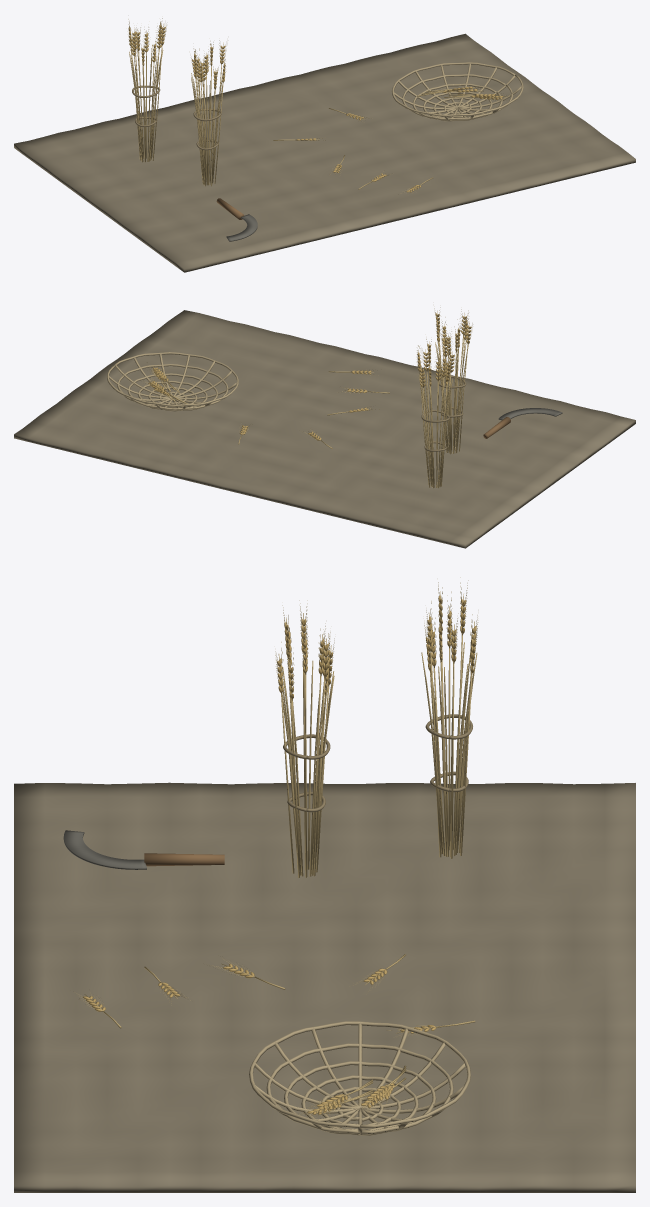
Rendered from ruth-gleaning.glb.
3 views of the same model, one above another, from view 1: azimuth 30°, elevation 25°; view 2: azimuth 150°, elevation 25°; view 3: azimuth 270°, elevation 25° (orthographic). The views are drawn at different scales.
Visible parts, largest first — view 1: ruth-gleaning-ruth-modern-field-display-ground, ruth-gleaning-ruth-selected-mature-cereal-straw, ruth-gleaning-ruth-selected-collection-fibre, ruth-gleaning-ruth-selected-cereal-ear, ruth-gleaning-ruth-undated-fibre-tie; view 2: ruth-gleaning-ruth-modern-field-display-ground, ruth-gleaning-ruth-selected-mature-cereal-straw, ruth-gleaning-ruth-selected-collection-fibre, ruth-gleaning-ruth-selected-cereal-ear, ruth-gleaning-ruth-undated-fibre-tie, ruth-gleaning-ruth-harvest-blade-comparison; view 3: ruth-gleaning-ruth-modern-field-display-ground, ruth-gleaning-ruth-selected-mature-cereal-straw, ruth-gleaning-ruth-selected-collection-fibre, ruth-gleaning-ruth-selected-cereal-ear, ruth-gleaning-ruth-harvest-blade-comparison, ruth-gleaning-ruth-undated-fibre-tie, ruth-gleaning-ruth-unspecified-harvest-handle.
Boxes of the visible parts, x1=… form: ruth-gleaning-ruth-modern-field-display-ground: x1=14, y1=33, x2=635, y2=272; ruth-gleaning-ruth-selected-mature-cereal-straw: x1=128, y1=18, x2=226, y2=186; ruth-gleaning-ruth-selected-collection-fibre: x1=391, y1=62, x2=523, y2=121; ruth-gleaning-ruth-selected-cereal-ear: x1=128, y1=25, x2=225, y2=89; ruth-gleaning-ruth-undated-fibre-tie: x1=132, y1=85, x2=221, y2=150; ruth-gleaning-ruth-modern-field-display-ground: x1=14, y1=310, x2=635, y2=548; ruth-gleaning-ruth-selected-mature-cereal-straw: x1=417, y1=307, x2=472, y2=488; ruth-gleaning-ruth-selected-collection-fibre: x1=107, y1=352, x2=238, y2=411; ruth-gleaning-ruth-selected-cereal-ear: x1=417, y1=313, x2=471, y2=386; ruth-gleaning-ruth-undated-fibre-tie: x1=421, y1=376, x2=466, y2=451; ruth-gleaning-ruth-harvest-blade-comparison: x1=498, y1=408, x2=562, y2=420; ruth-gleaning-ruth-modern-field-display-ground: x1=14, y1=782, x2=635, y2=1192; ruth-gleaning-ruth-selected-mature-cereal-straw: x1=275, y1=577, x2=478, y2=877; ruth-gleaning-ruth-selected-collection-fibre: x1=249, y1=1021, x2=470, y2=1135; ruth-gleaning-ruth-selected-cereal-ear: x1=277, y1=595, x2=476, y2=699; ruth-gleaning-ruth-harvest-blade-comparison: x1=63, y1=830, x2=146, y2=869; ruth-gleaning-ruth-undated-fibre-tie: x1=283, y1=714, x2=472, y2=812; ruth-gleaning-ruth-unspecified-harvest-handle: x1=144, y1=853, x2=224, y2=866.
Bounding box in the file's own units: 1.3 × 0.4154 × 0.85.
